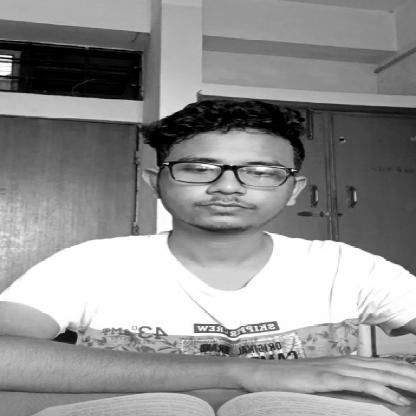Normal: (154, 107, 308, 224)
